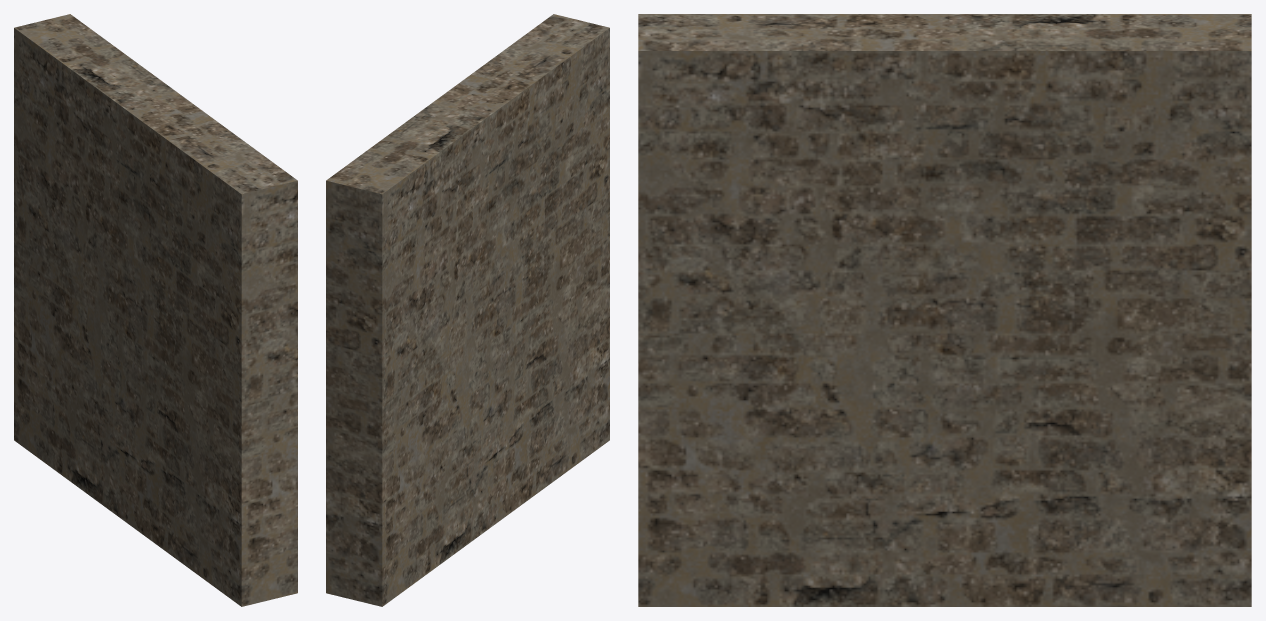
File: SM_Modular_Wall_01a.gltf
3 renders of one model, left to right at view 1: azimuth 30°, elevation 25°; view 2: azimuth 150°, elevation 25°; view 3: azimuth 270°, elevation 25°, orthographic. The views are drawn at different scales.
Parts seen in each view (by area): view 1: SM_Modular_Wall_01a; view 2: SM_Modular_Wall_01a; view 3: SM_Modular_Wall_01a.
Part boxes in pixels (x1,y1,x2,y2): SM_Modular_Wall_01a: [14, 14, 297, 606]; SM_Modular_Wall_01a: [326, 14, 609, 606]; SM_Modular_Wall_01a: [638, 14, 1251, 606].
Size of the model in its own units: 1 by 7 by 7.
1 material, 1 textured.
